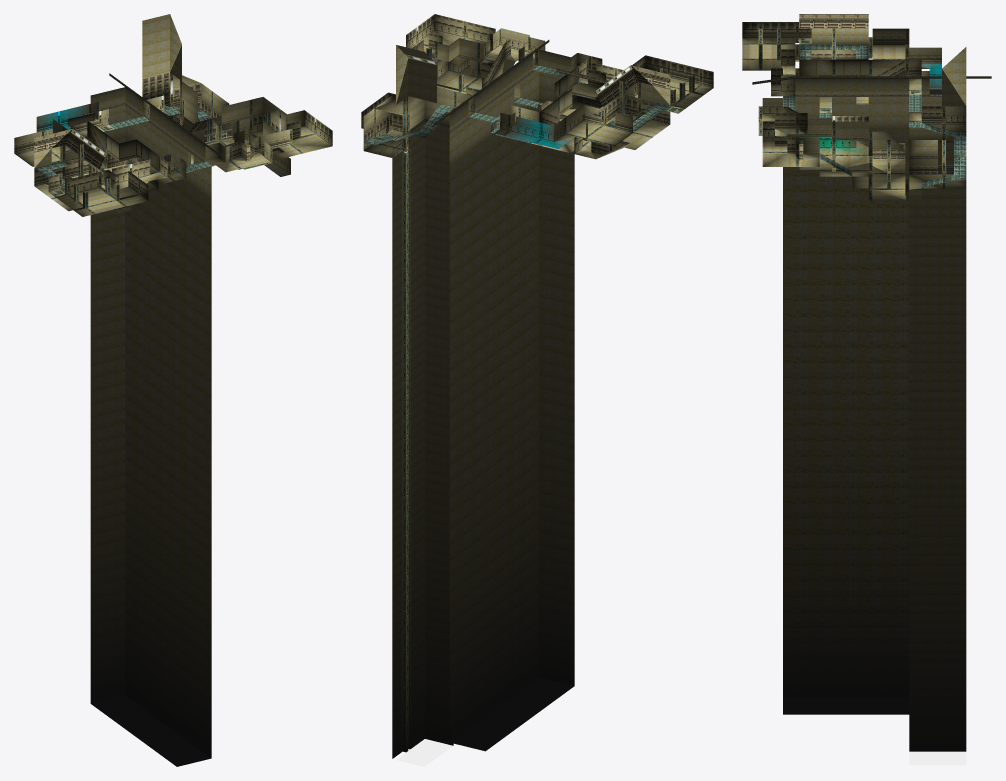
Rendered from G5Building.glb.
3 renders of one model, left to right at view 1: azimuth 30°, elevation 25°; view 2: azimuth 150°, elevation 25°; view 3: azimuth 270°, elevation 25°, orthographic. The views are drawn at different scales.
Visible parts, largest first — view 1: G5Building_0, G5Building_5, G5Building_4, G5Building_9, G5Building_8, G5Building_11, G5Building_14, G5Building_2, G5Building_19, G5Building_Alpha_17, G5Building_7, G5Building_1; view 2: G5Building_0, G5Building_5, G5Building_8, G5Building_11, G5Building_9, G5Building_Alpha_17, G5Building_2, G5Building_14, G5Building_4, G5Building_22, G5Building_1; view 3: G5Building_0, G5Building_5, G5Building_Alpha_17, G5Building_4, G5Building_11, G5Building_14, G5Building_9, G5Building_19, G5Building_8, G5Building_22, G5Building_2, G5Building_1 (+1 smaller).
Boxes of the visible parts, <box> form: G5Building_0: <box>14,14,331,766</box>; G5Building_5: <box>15,80,315,214</box>; G5Building_4: <box>14,91,300,200</box>; G5Building_9: <box>34,121,300,192</box>; G5Building_8: <box>53,104,332,194</box>; G5Building_11: <box>34,129,230,192</box>; G5Building_14: <box>34,73,284,185</box>; G5Building_2: <box>89,83,332,180</box>; G5Building_19: <box>68,112,158,170</box>; G5Building_Alpha_17: <box>35,105,210,190</box>; G5Building_7: <box>142,72,208,132</box>; G5Building_1: <box>57,98,316,195</box>; G5Building_0: <box>362,28,713,758</box>; G5Building_5: <box>374,28,704,752</box>; G5Building_8: <box>361,22,637,153</box>; G5Building_11: <box>386,61,670,154</box>; G5Building_9: <box>428,14,670,148</box>; G5Building_Alpha_17: <box>364,58,669,145</box>; G5Building_2: <box>361,14,713,142</box>; G5Building_14: <box>363,40,658,144</box>; G5Building_4: <box>428,41,713,132</box>; G5Building_22: <box>396,739,453,766</box>; G5Building_1: <box>374,29,702,151</box>; G5Building_0: <box>742,28,966,751</box>; G5Building_5: <box>742,28,966,200</box>; G5Building_Alpha_17: <box>783,44,966,187</box>; G5Building_4: <box>742,30,941,159</box>; G5Building_11: <box>771,14,937,174</box>; G5Building_14: <box>752,45,991,158</box>; G5Building_9: <box>762,48,941,151</box>; G5Building_19: <box>799,59,868,75</box>; G5Building_8: <box>762,57,966,147</box>; G5Building_22: <box>909,751,966,765</box>; G5Building_2: <box>742,22,905,150</box>; G5Building_1: <box>758,30,945,195</box>.
Bounding box in the file's own units: 534 × 1361 × 436.
23 materials, 23 textured.
